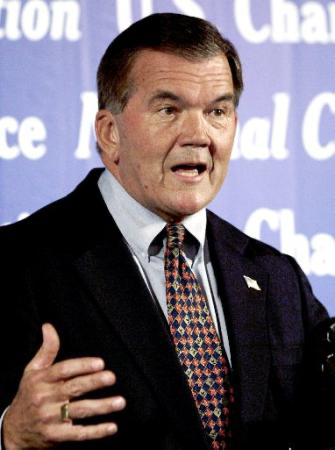Face: (130, 51, 239, 212)
